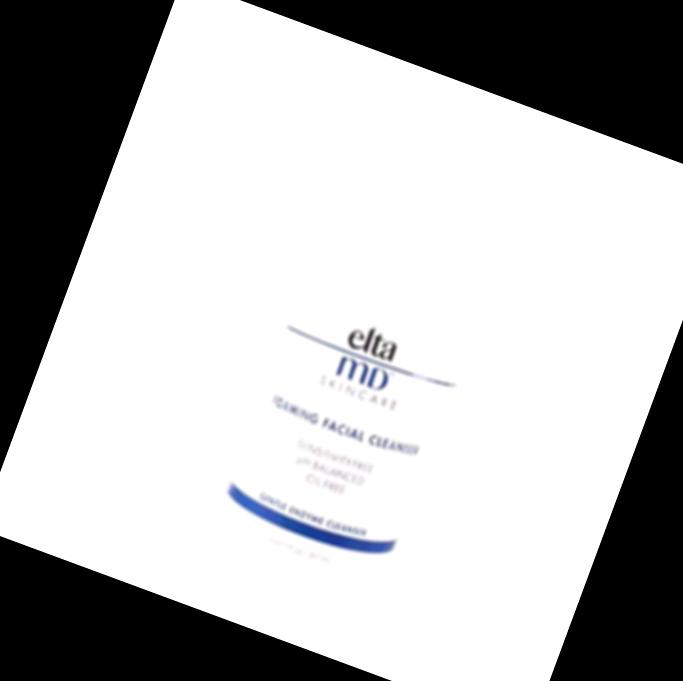cosmetic: (205, 103, 540, 621)
